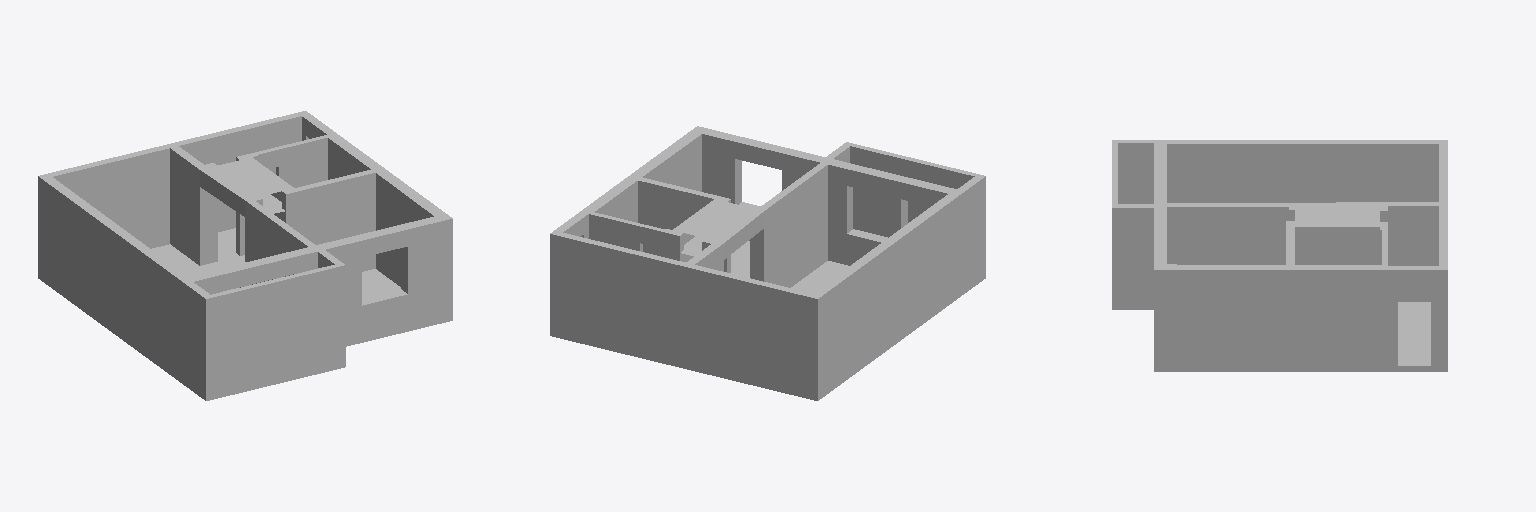
Rendered from Apartment.obj.
3 renders of one model, left to right at view 1: azimuth 30°, elevation 25°; view 2: azimuth 150°, elevation 25°; view 3: azimuth 270°, elevation 25°, orthographic.
Parts seen in each view (by area): view 1: Плоскость, Плоскость.001; view 2: Плоскость, Плоскость.001; view 3: Плоскость, Плоскость.001.
Boxes of the visible parts, <box> form: Плоскость: <box>38,111,452,394</box>; Плоскость.001: <box>38,230,452,400</box>; Плоскость: <box>550,126,985,394</box>; Плоскость.001: <box>550,241,985,400</box>; Плоскость: <box>1112,140,1447,365</box>; Плоскость.001: <box>1112,304,1447,371</box>.
Size of the model in its own units: 13.61 by 4.96 by 14.82.